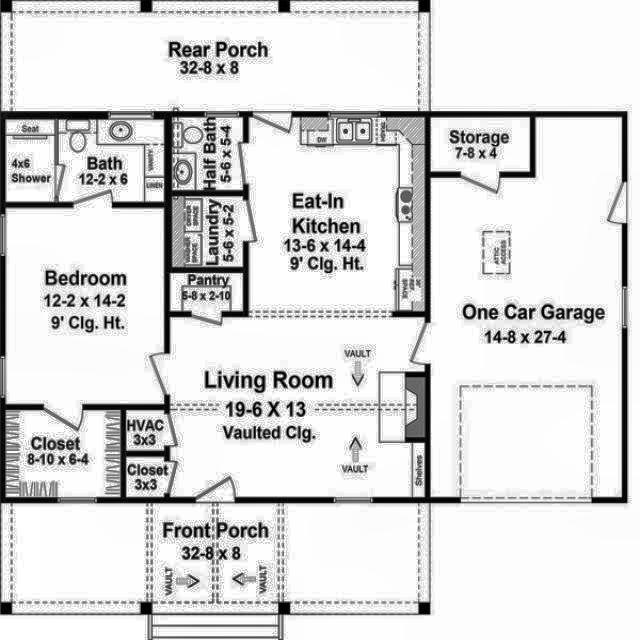room: (430, 116, 622, 498), (170, 317, 425, 497), (249, 117, 425, 311), (5, 207, 164, 404), (6, 410, 121, 497), (59, 119, 164, 203), (430, 117, 530, 172), (172, 117, 244, 190), (172, 196, 244, 268), (5, 119, 55, 203), (170, 274, 243, 312), (126, 410, 164, 451), (126, 457, 164, 497)
